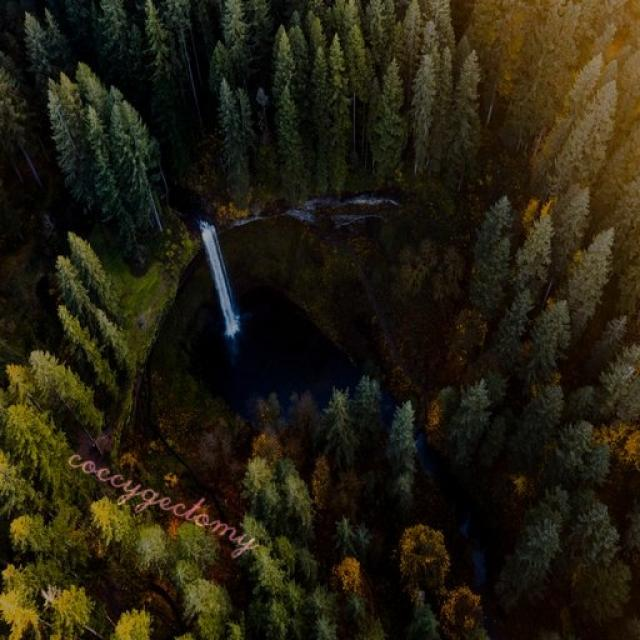watermark: (56, 433, 282, 558)
